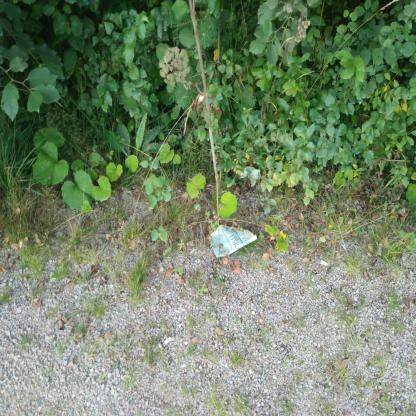kagit: (210, 225, 259, 260)
